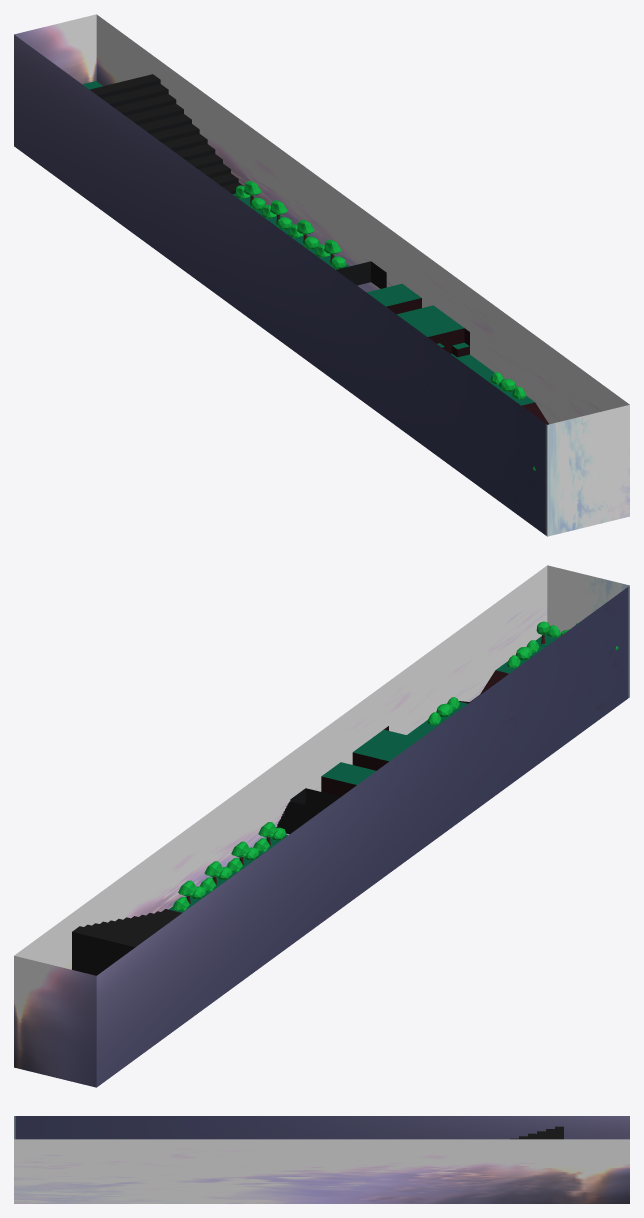
The model's file is Level1World.glb.
3 views of the same model, one above another, from view 1: azimuth 30°, elevation 25°; view 2: azimuth 150°, elevation 25°; view 3: azimuth 270°, elevation 25° (orthographic). The views are drawn at different scales.
Parts seen in each view (by area): view 1: Walls, Floor; view 2: Walls, Floor; view 3: Walls, Floor.
Boxes of the visible parts, left/top/right/bottom form: Walls: left=14, top=14, right=629, bottom=536; Floor: left=82, top=74, right=548, bottom=424; Walls: left=14, top=565, right=629, bottom=1087; Floor: left=72, top=634, right=558, bottom=975; Walls: left=14, top=1116, right=629, bottom=1203; Floor: left=510, top=1126, right=563, bottom=1139.
Size of the model in its own units: 20.63 by 26.44 by 228.
8 materials, 1 textured.
